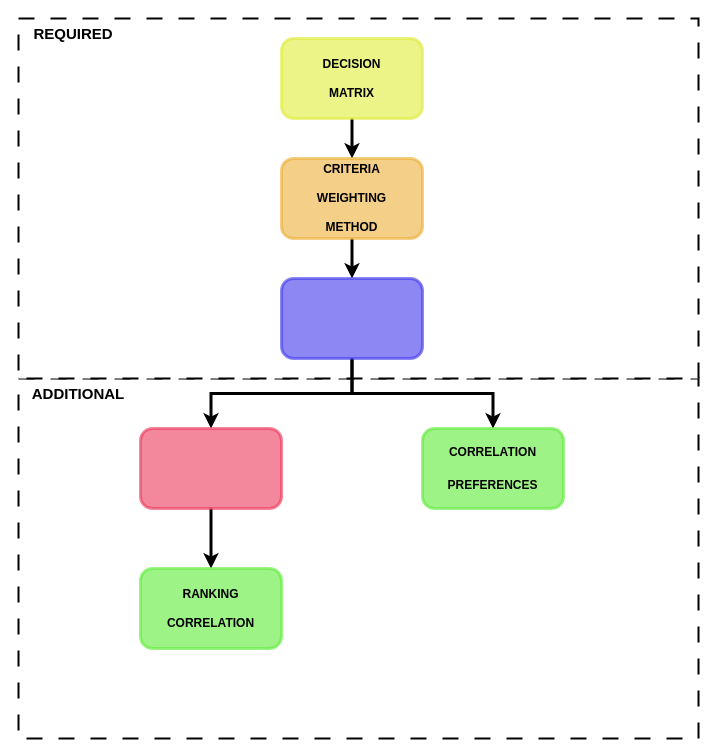
This 716x756 diagram has some shape labels left out. Here are the shapes that lost their labels. From the top down, the centre of each, then its label:
At pixel 352 318: "MULTI-CRITERIA DECISION ANALYSIS METHOD".
At pixel 210 468: "RANKING PREFERENCES".
